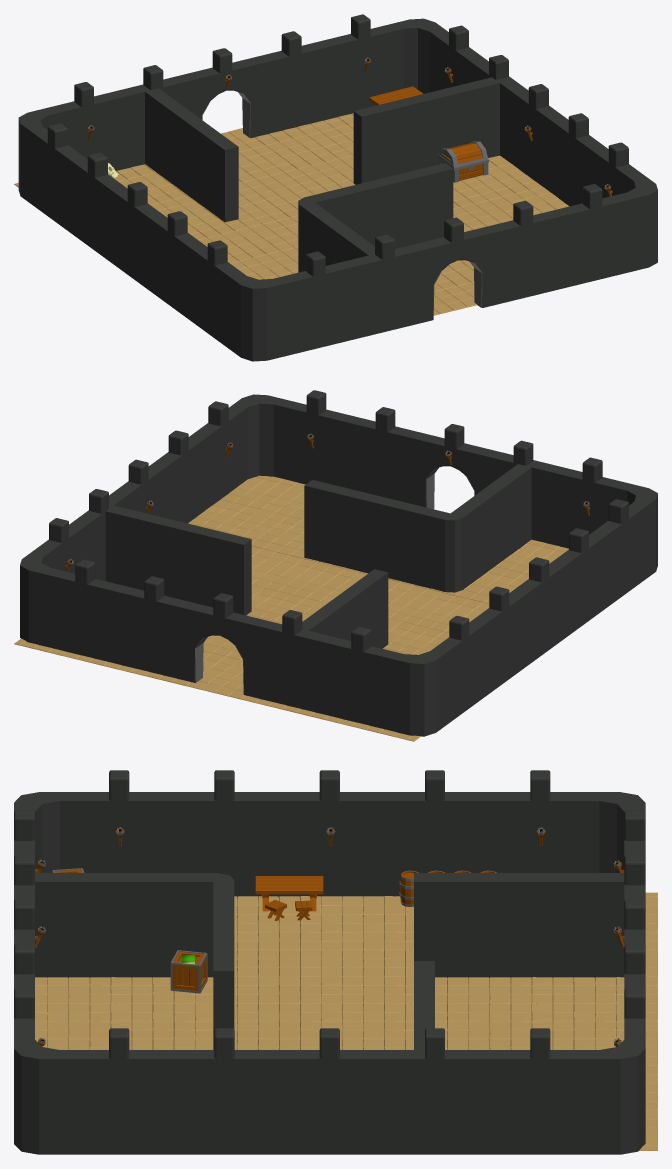
File: Dark_maze_level_1 (1).fbx
3 views of the same model, one above another, from view 1: azimuth 30°, elevation 25°; view 2: azimuth 150°, elevation 25°; view 3: azimuth 270°, elevation 25° (orthographic). The views are drawn at different scales.
Parts seen in each view (by area): view 1: level 1; view 2: level 1; view 3: level 1.
Part boxes in pixels (x1,y1,x2,y2): level 1: [14, 14, 657, 361]; level 1: [14, 390, 657, 741]; level 1: [14, 770, 657, 1154].
Size of the model in its own units: 3000 by 629 by 3059.
